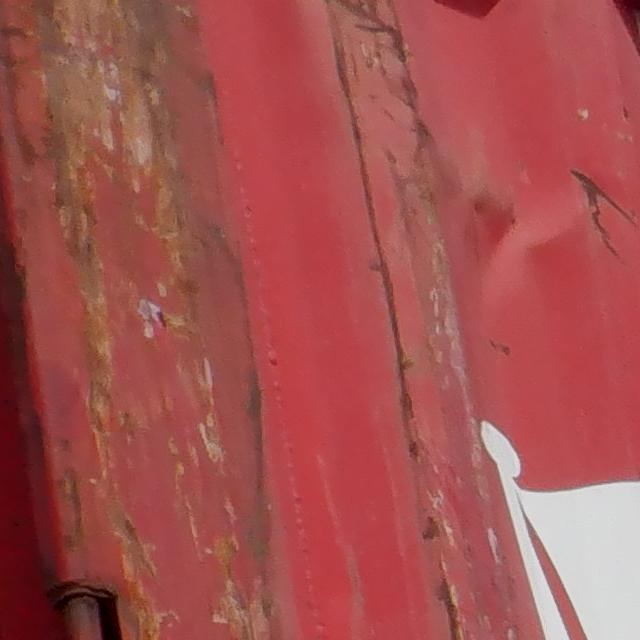Dent: (407, 117, 609, 294)
